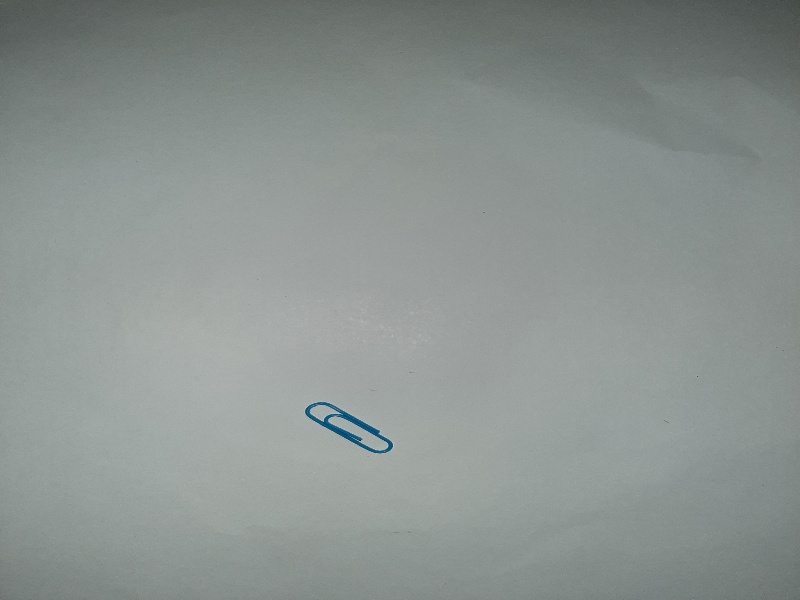Small Jumpclip: (302, 394, 398, 462)
